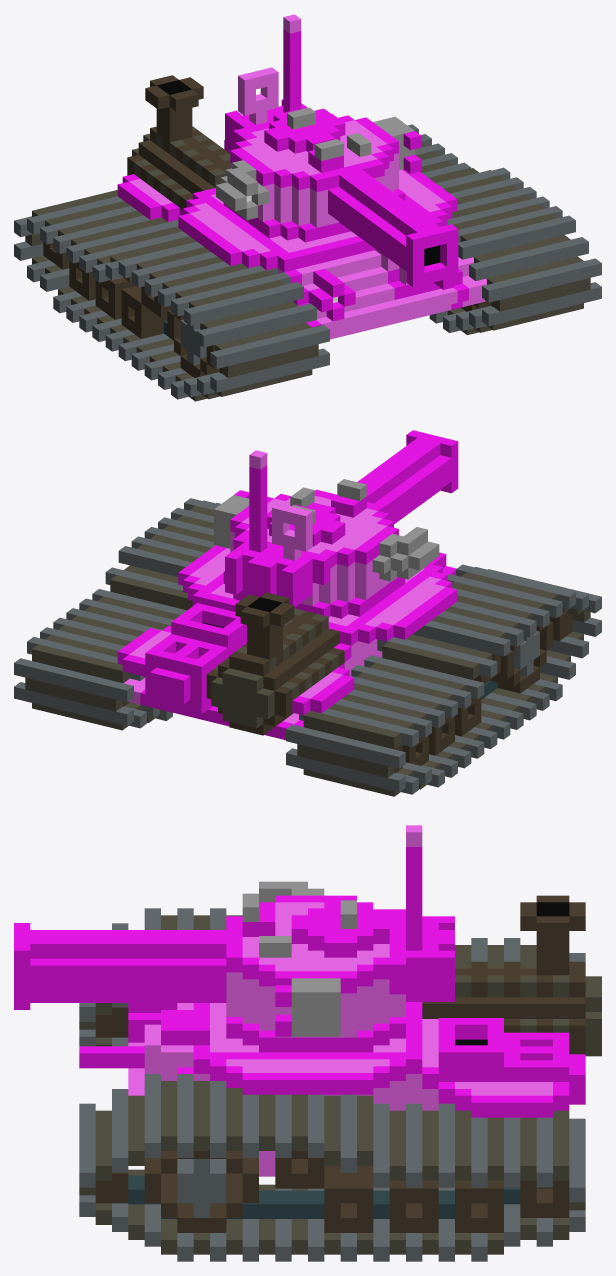
Rendered from tank.obj.
The picture shows the model from 3 angles, top to bottom: view 1: azimuth 30°, elevation 25°; view 2: azimuth 150°, elevation 25°; view 3: azimuth 270°, elevation 25°; orthographic projection. The views are drawn at different scales.
Size of the model in its own units: 3.4 by 2.2 by 3.6.
Materials: 1 (1 with a texture image).
